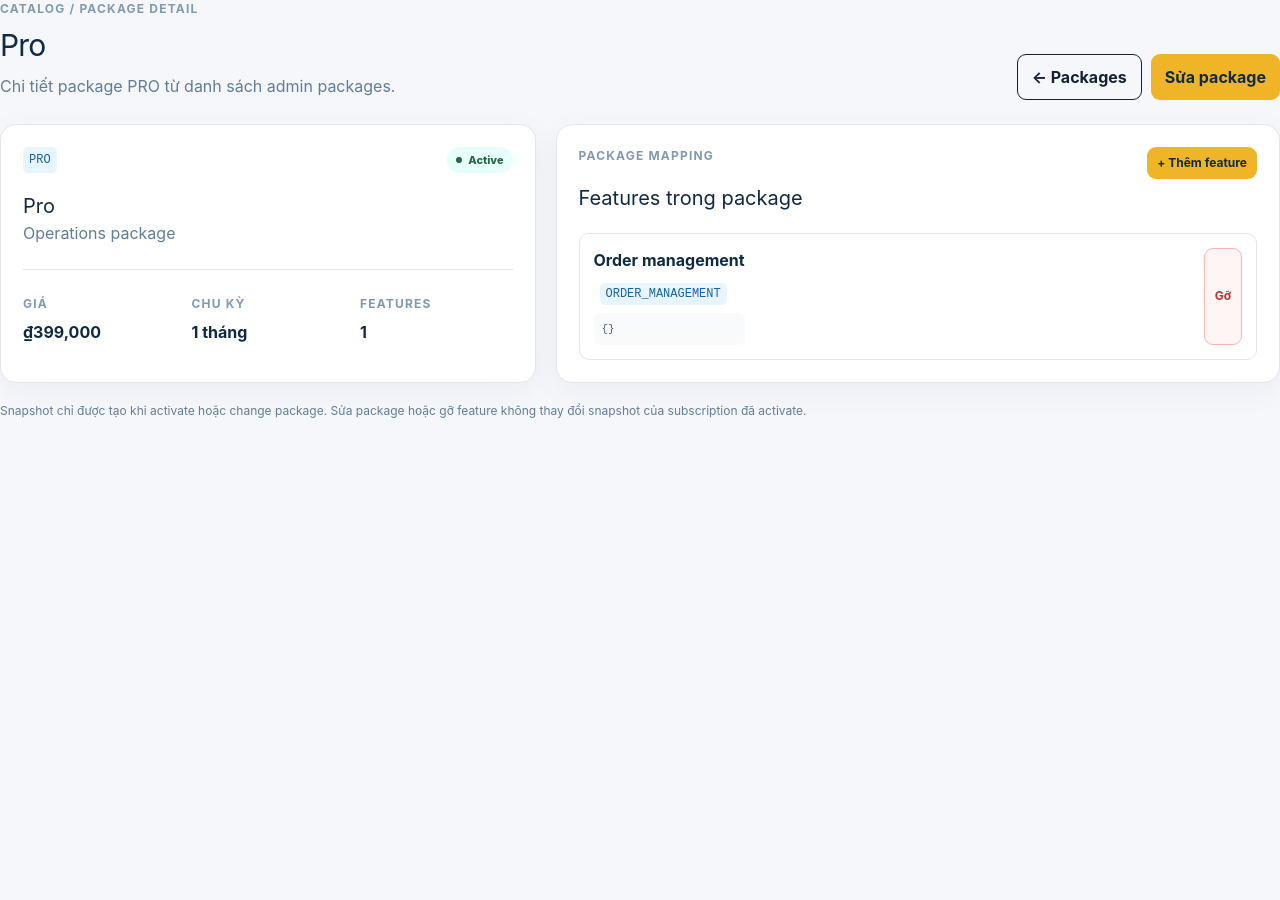
Test: admin Phase 2 pages › loads package detail from list and supports plain-object limits only
Expected: the heading "Features trong package" is shown, [578,183,803,213]
Expected: the text "ORDER_MANAGEMENT" is shown, [600,283,727,305]
Click the button "+ Thêm feature".
click(1202, 163)  # box [1147,147,1257,179]
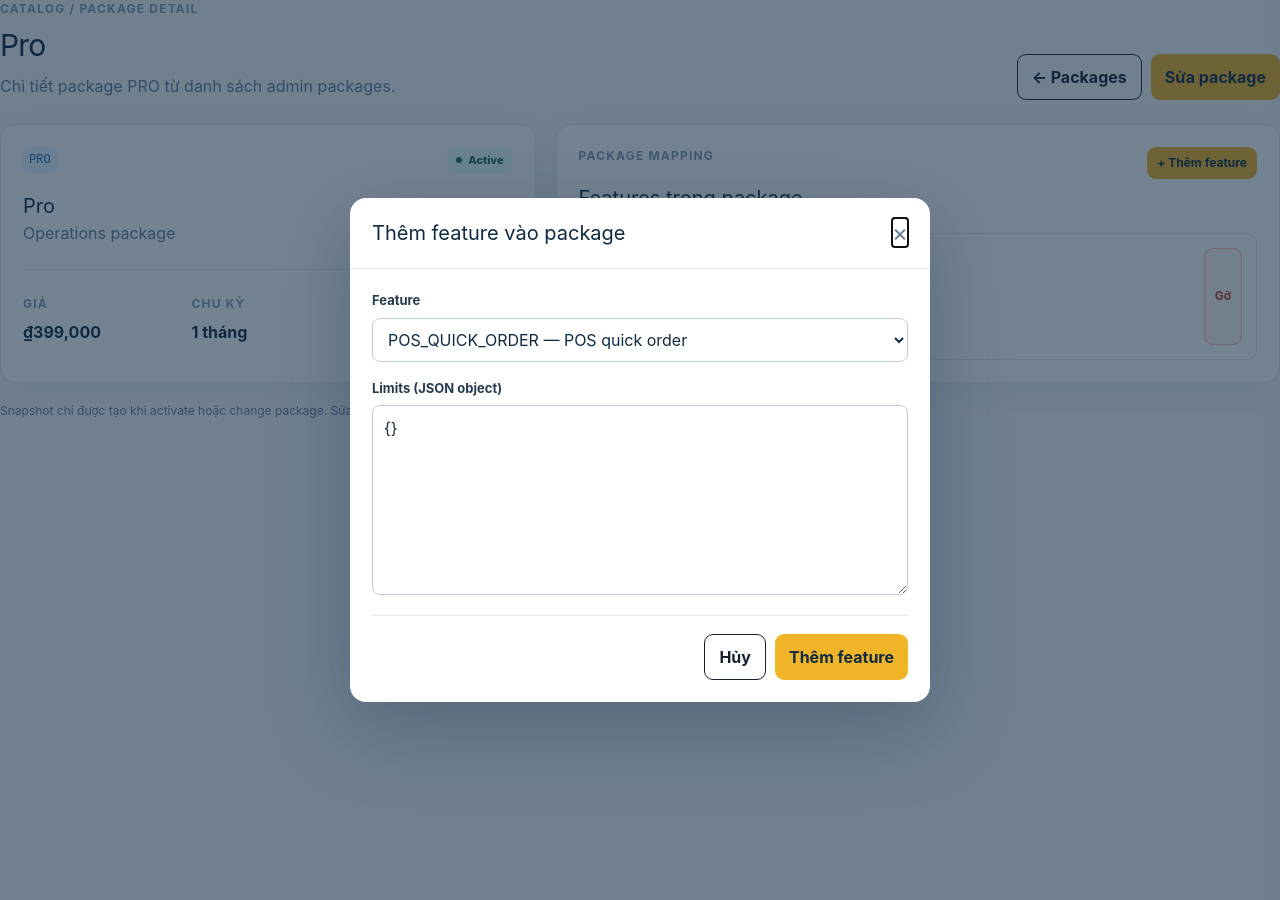
Expected: the text box labelled "Limits (JSON object)" holds "{}"
Replace the text in the text box labelled "Limits (JSON object)" with "[]" at (640, 500), box [372,405,908,595]
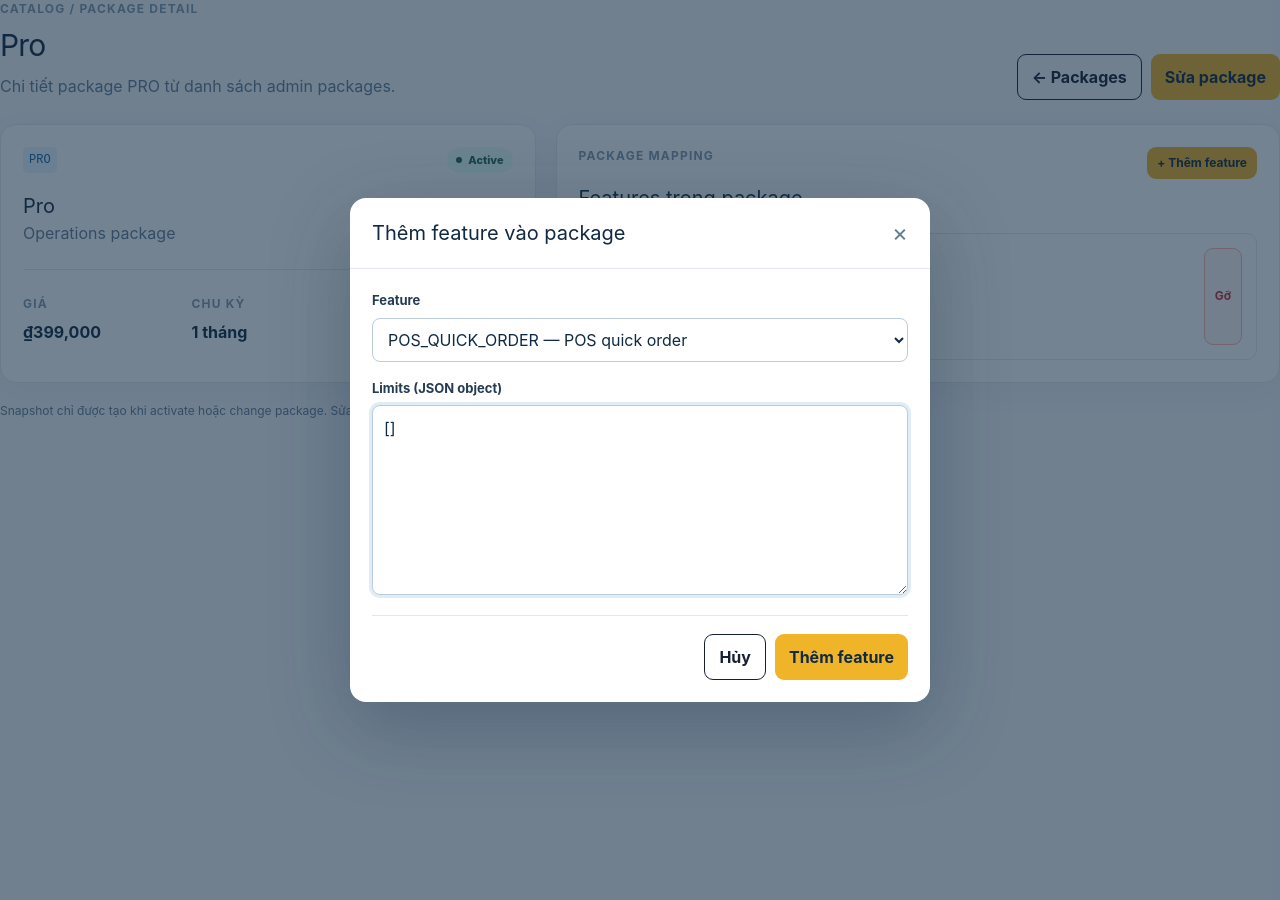
Click the button "Thêm feature".
click(842, 657)  # box [775,634,908,680]
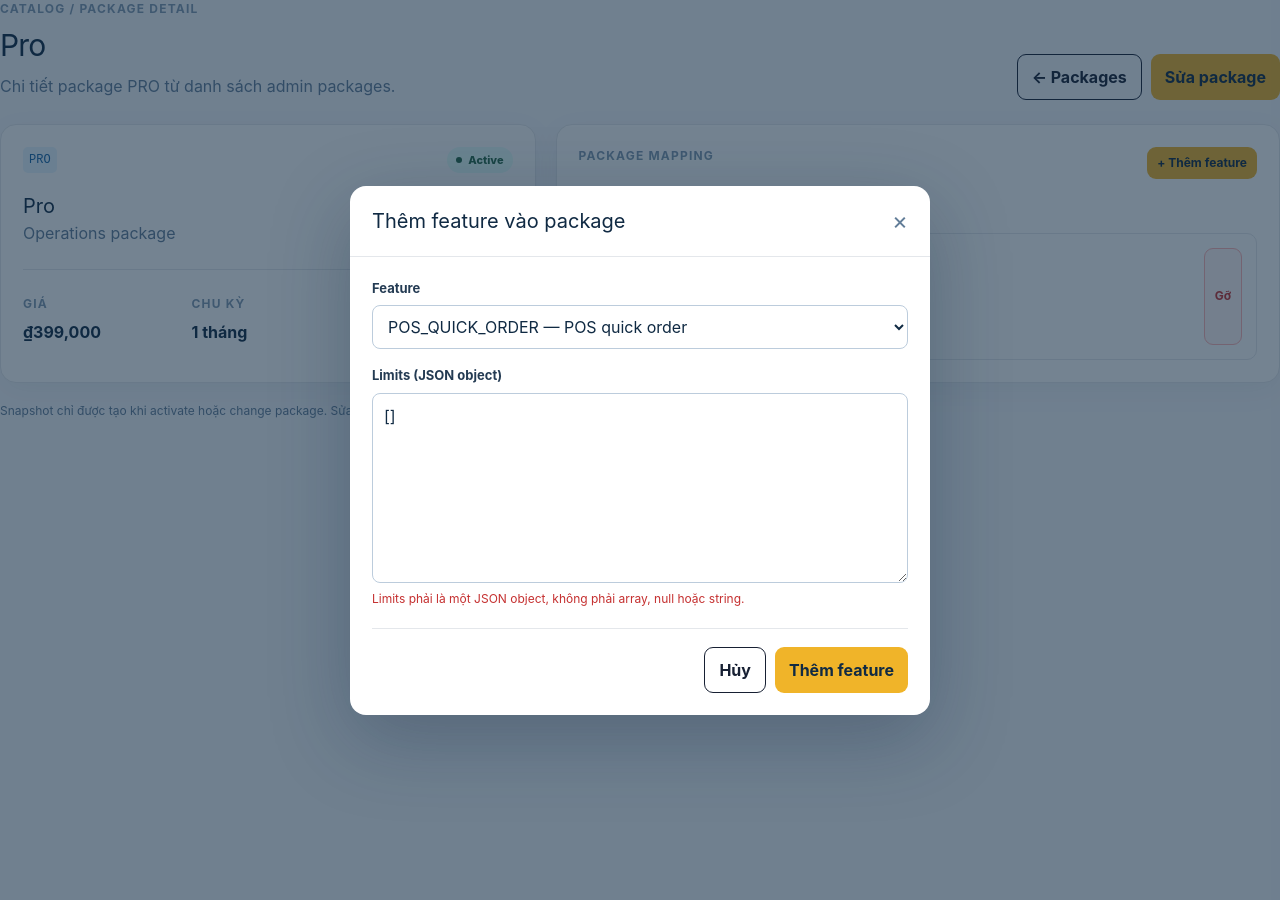
Expected: the text "phải là một JSON object" is shown, [372,590,744,606]
